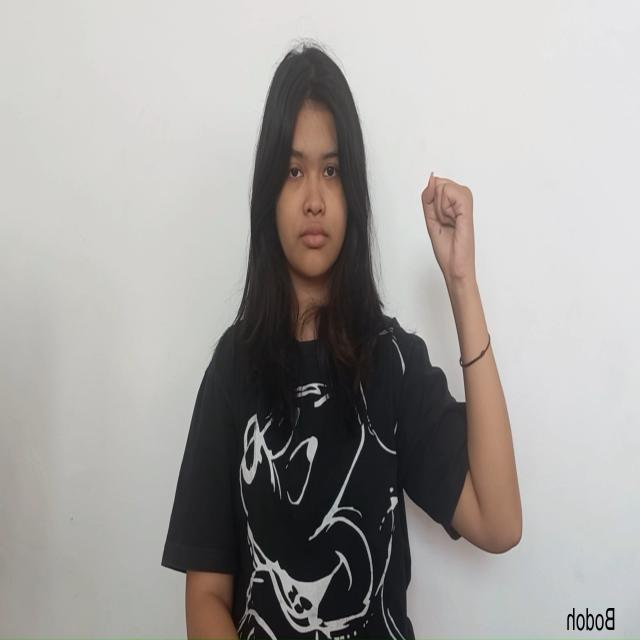Bodoh -BISINDO-: (418, 164, 481, 294)
